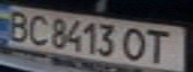1: (78, 20, 100, 55)
3: (93, 20, 121, 58)
4: (63, 18, 84, 52)
8: (45, 16, 69, 50)
B: (0, 8, 33, 43)
C: (24, 11, 51, 46)
O: (118, 25, 151, 63)
T: (142, 26, 181, 64)
